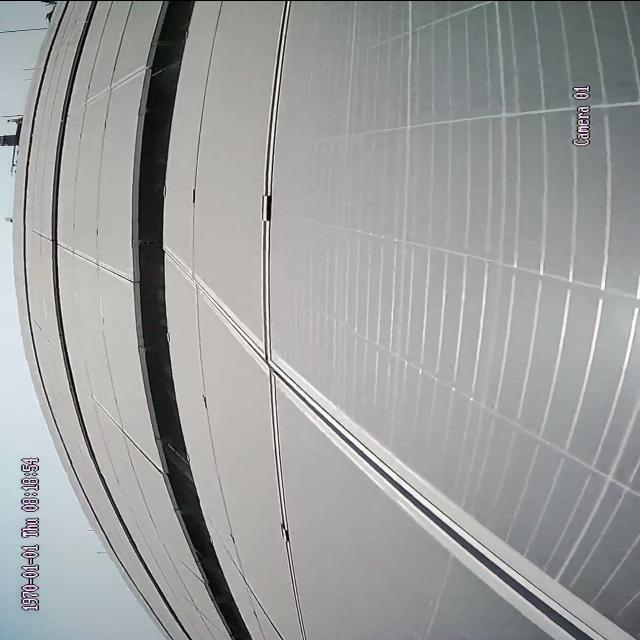interior panel: (170, 17, 627, 640), (92, 385, 158, 477), (75, 62, 136, 116), (61, 243, 125, 283)
outher panel: (129, 1, 255, 639)
